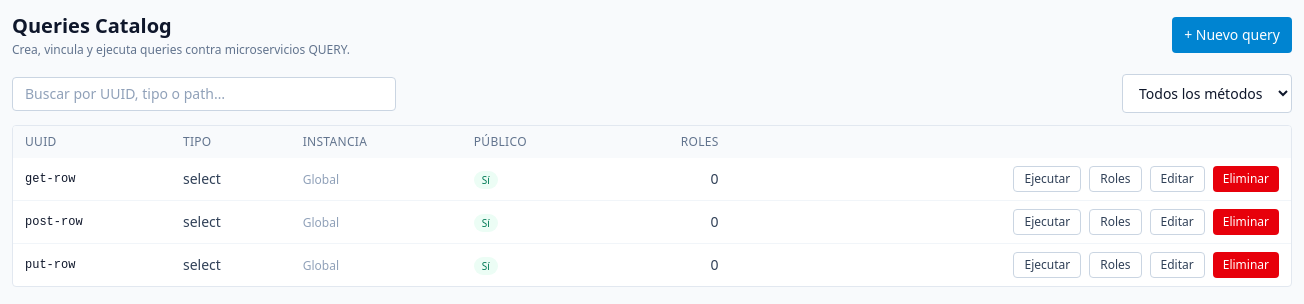
Test: QueriesAdminPage › the method select filters rows by httpMethod (default POST when null)
The width and height of the screenshot is (1304, 304).
Expected: the text "get-row" is shown, [25,172,75,186]
Expected: the text "post-row" is shown, [25,215,83,229]
Select "GET" in the dropdown with test id "method-filter" at (1207, 94), box [1122,74,1292,113]
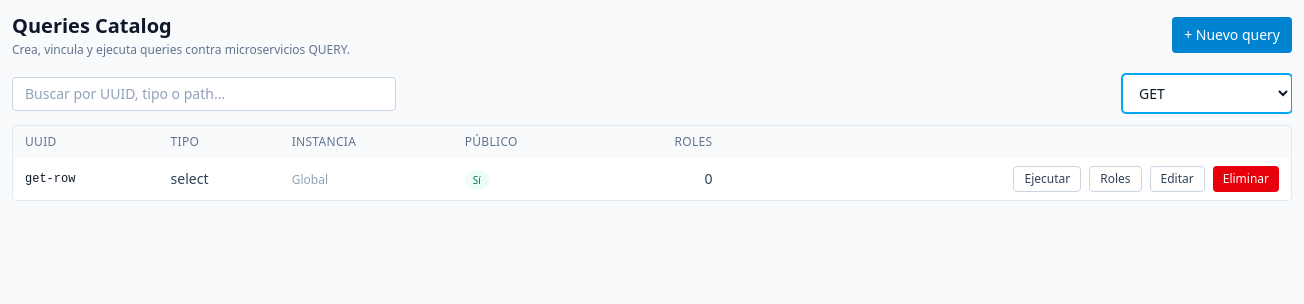
Expected: the text "get-row" is shown, [25,172,75,186]
Expected: the text "post-row" is gone
Expected: the text "put-row" is gone
Select "POST" in the dropdown with test id "method-filter" at (1207, 94), box [1122,74,1292,113]
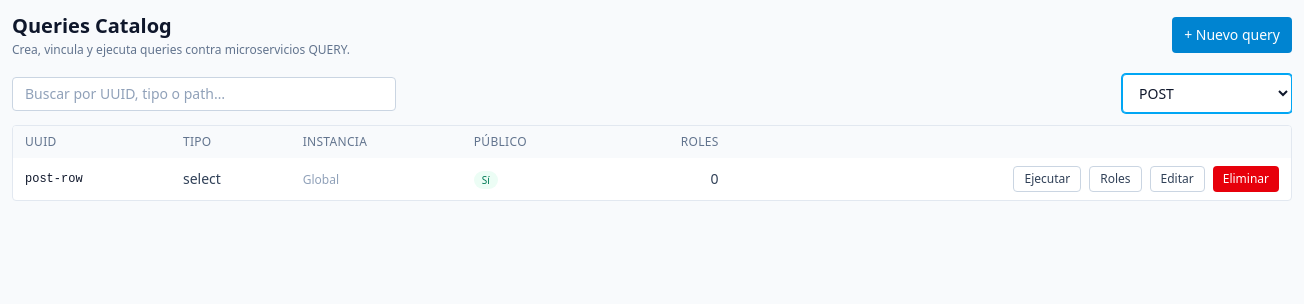
Expected: the text "post-row" is shown, [25,172,83,186]
Expected: the text "get-row" is gone
Select "Todos los métodos" in the dropdown with test id "method-filter" at (1207, 94), box [1122,74,1292,113]
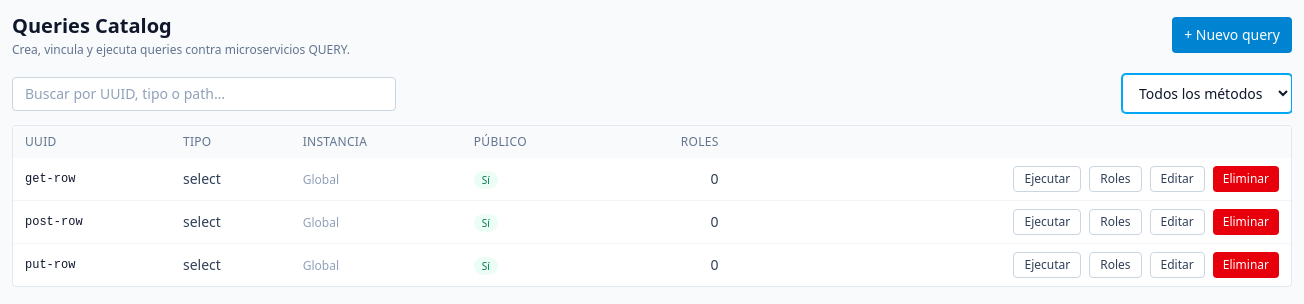
Expected: the text "post-row" is shown, [25,215,83,229]
Expected: the text "get-row" is shown, [25,172,75,186]
Expected: the text "put-row" is shown, [25,258,75,272]
